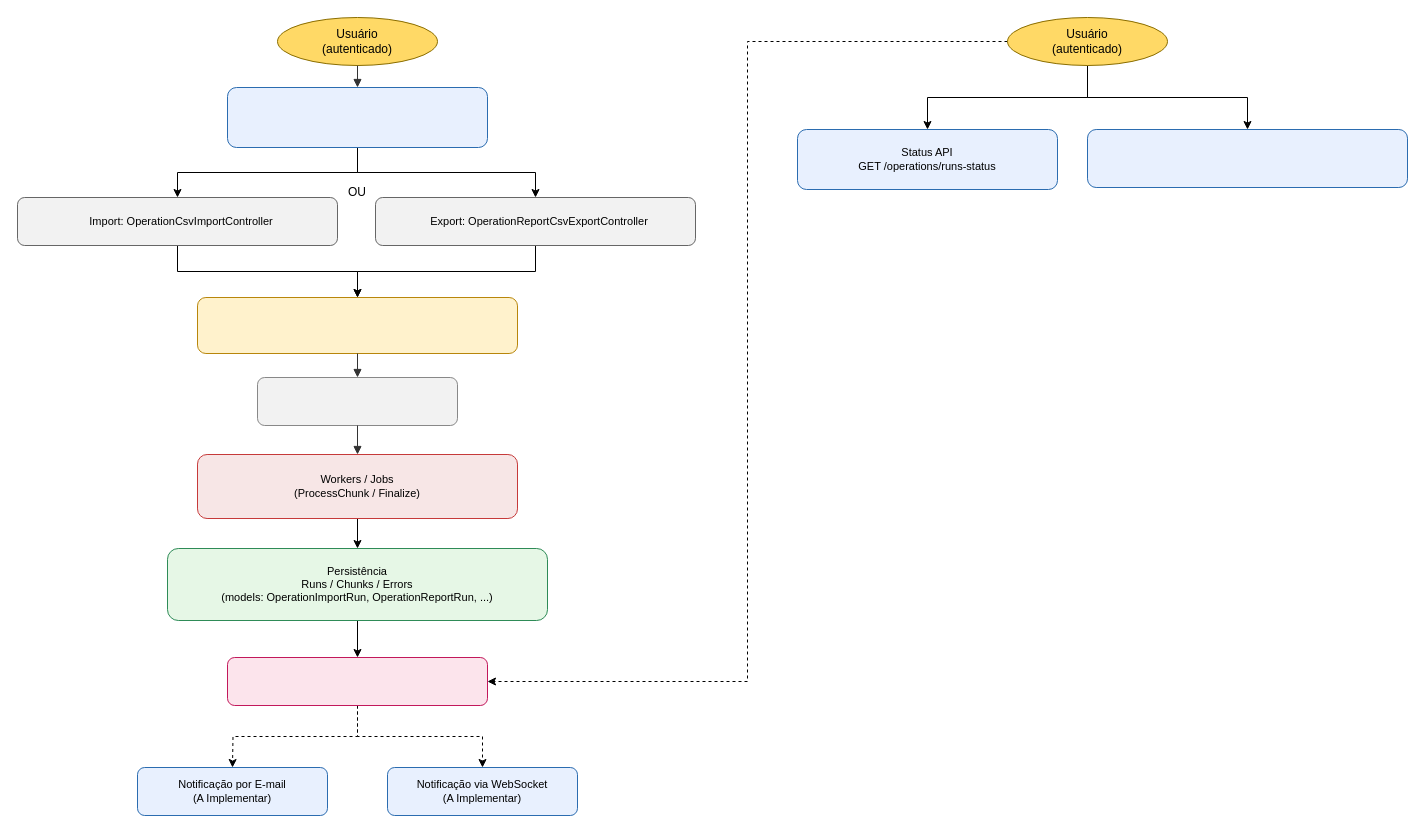
Image size: 1425x833. Some labels were removed from this diagram. The centre of each missing label's shape, as x and y in pixels:
"Criar Run (OperationImportRun / OperationReportRun) (status: pending)" belongs at (x=357, y=325).
"Download CSV (OperationReportCsvDownloadController)" belongs at (x=1247, y=158).
"Fila (dispatch job)" belongs at (x=357, y=401).
"Notificação (persist em notifications)" belongs at (x=357, y=681).
"UI: /operations (view)" belongs at (x=357, y=117).
